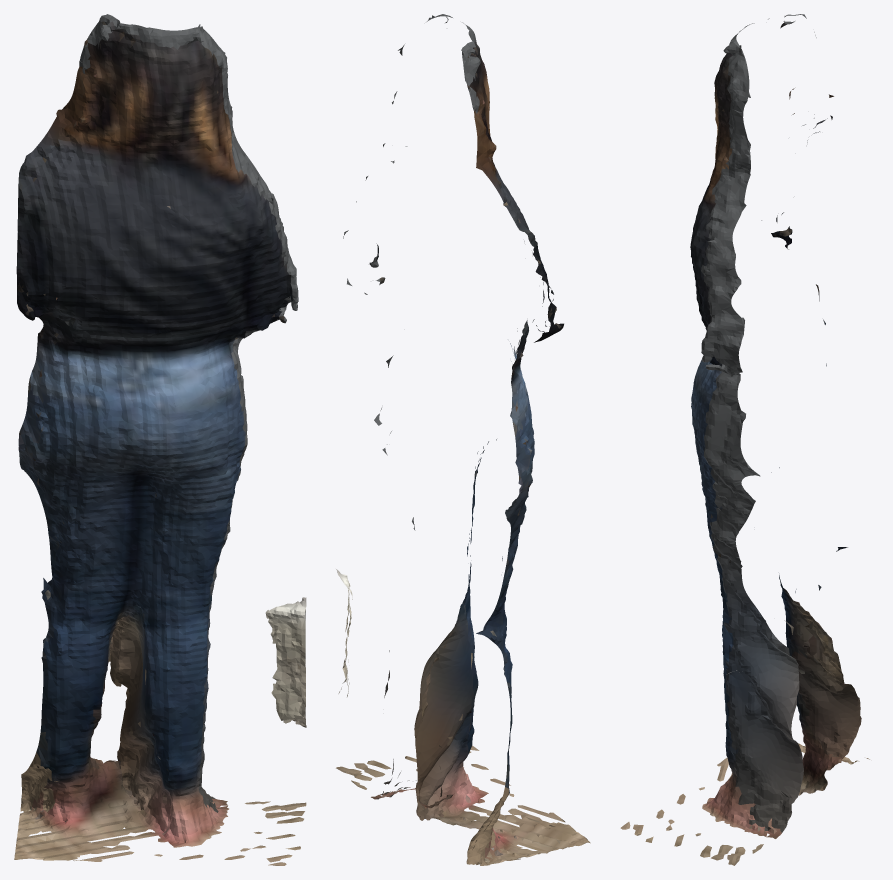
3 renders of one model, left to right at view 1: azimuth 30°, elevation 25°; view 2: azimuth 150°, elevation 25°; view 3: azimuth 270°, elevation 25°, orthographic. The views are drawn at different scales.
Bounding box in the file's own units: 0.5489 × 1.52 × 0.4591.
1 material, 1 textured.
